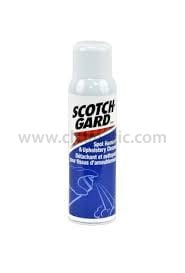Aerosol_cans: (66, 38, 120, 228)
